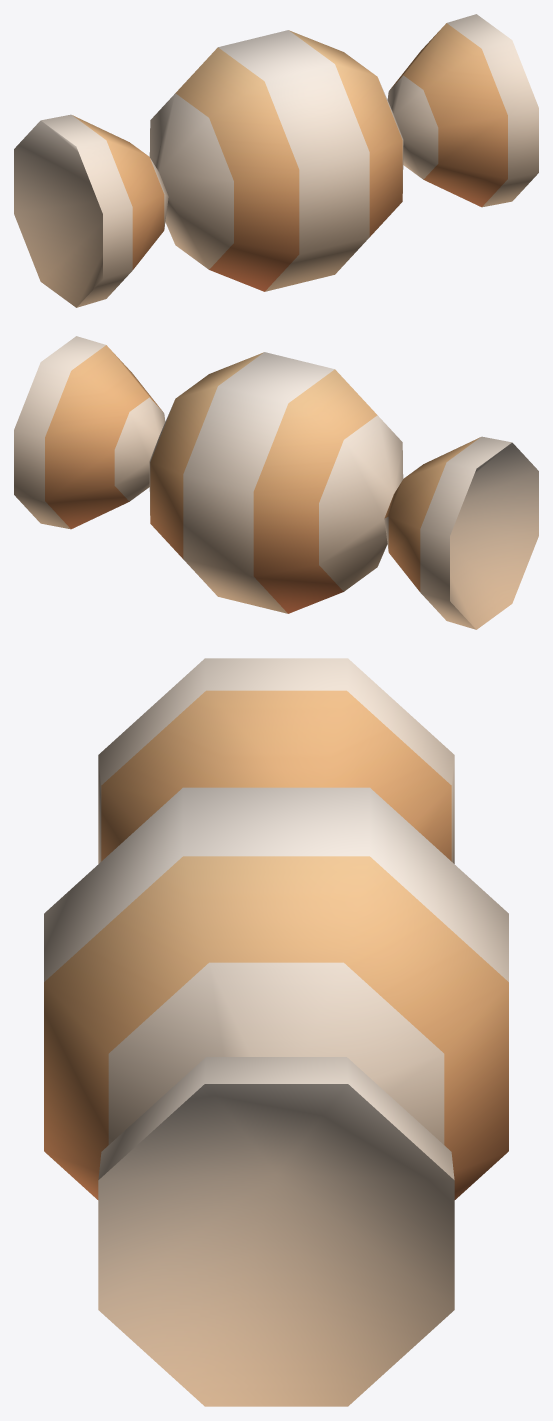
Rendered from candy_brown_A.gltf.
3 views of the same model, one above another, from view 1: azimuth 30°, elevation 25°; view 2: azimuth 150°, elevation 25°; view 3: azimuth 270°, elevation 25° (orthographic). The views are drawn at different scales.
Parts seen in each view (by area): view 1: candy_brown_A; view 2: candy_brown_A; view 3: candy_brown_A.
Part boxes in pixels (x1=…): candy_brown_A: x1=14, y1=14, x2=538, y2=307; candy_brown_A: x1=14, y1=336, x2=538, y2=629; candy_brown_A: x1=44, y1=658, x2=508, y2=1406.
Size of the model in its own units: 0.65 by 0.3 by 0.3.
1 material, 1 textured.
